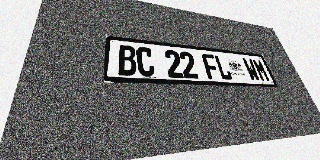2: (164, 49, 184, 78), (179, 51, 199, 79)
B: (118, 44, 137, 76)
C: (136, 46, 155, 77)
F: (201, 53, 221, 80)
L: (213, 55, 233, 80)
M: (252, 59, 271, 82)
W: (242, 58, 261, 81)
